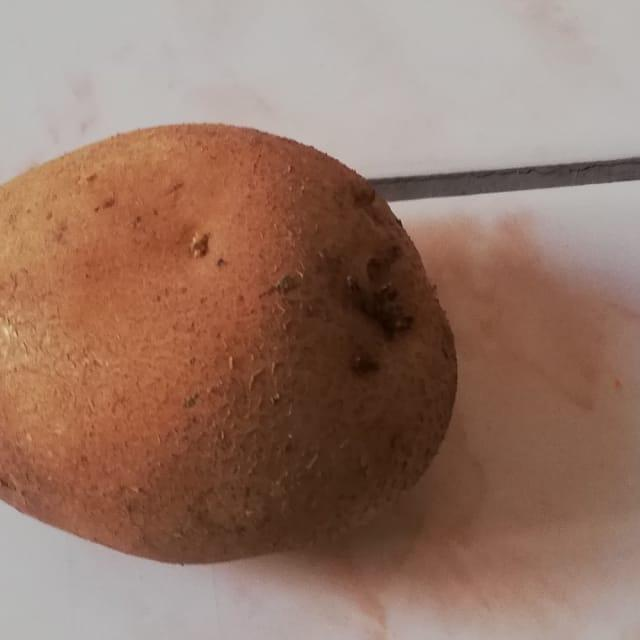potato: (0, 99, 492, 582)
